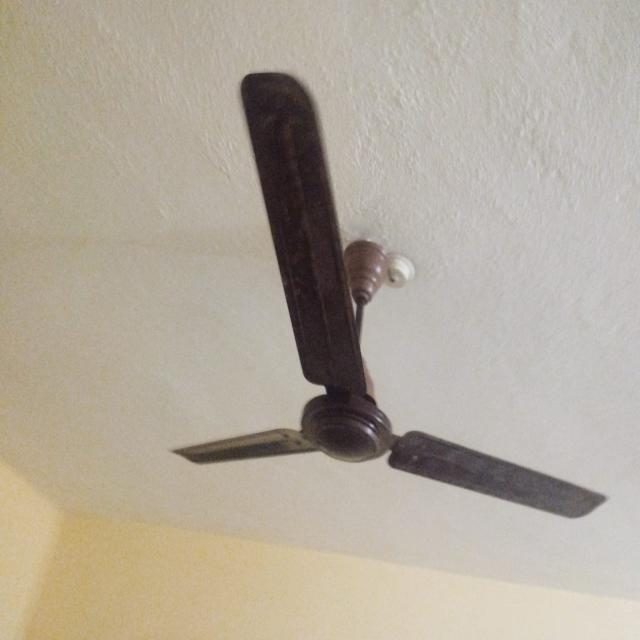fan_off: (171, 73, 609, 520)
